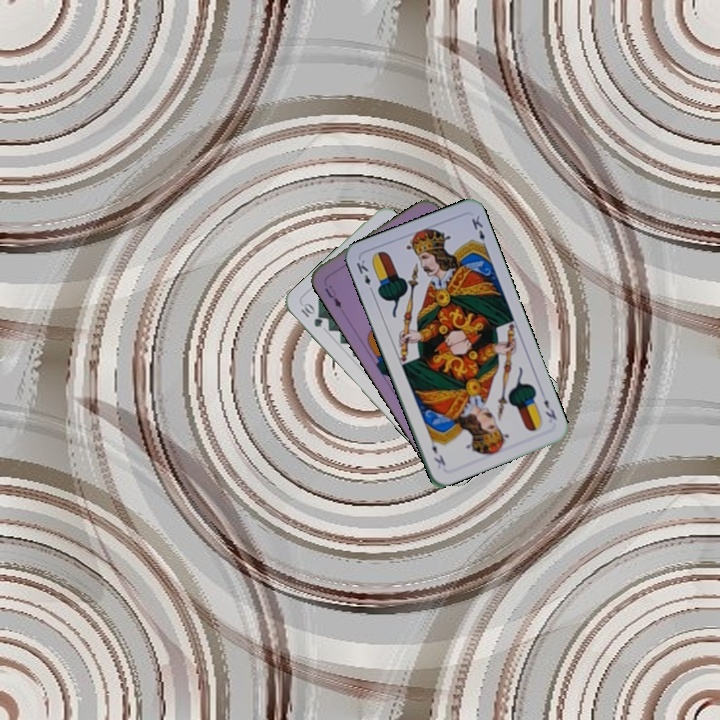EK: (352, 255, 376, 295), (540, 395, 559, 422)
EU: (320, 281, 344, 311)
G10: (297, 299, 325, 330)
